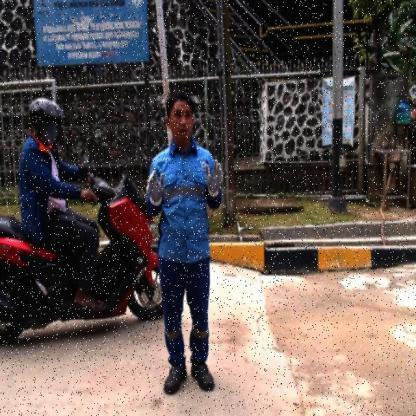boots: (188, 354, 220, 396), (163, 355, 191, 398), (142, 164, 165, 210), (203, 160, 228, 202)
